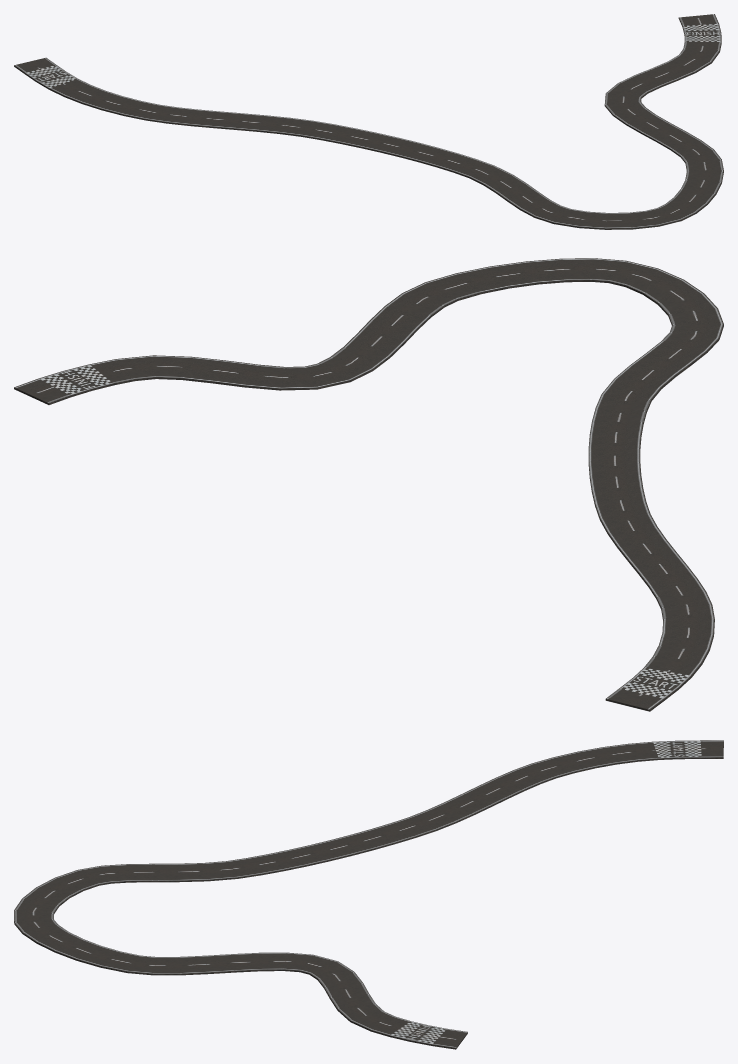
File: TrackLevel001.FBX
3 views of the same model, one above another, from view 1: azimuth 30°, elevation 25°; view 2: azimuth 150°, elevation 25°; view 3: azimuth 270°, elevation 25° (orthographic). The views are drawn at different scales.
Visible parts, largest first — view 1: Track001; view 2: Track001; view 3: Track001.
Part boxes in pixels (x1=…): Track001: x1=14, y1=14, x2=723, y2=229; Track001: x1=14, y1=258, x2=723, y2=711; Track001: x1=14, y1=740, x2=723, y2=1049.
Size of the model in its own units: 3593 by 7.8 by 3501.
